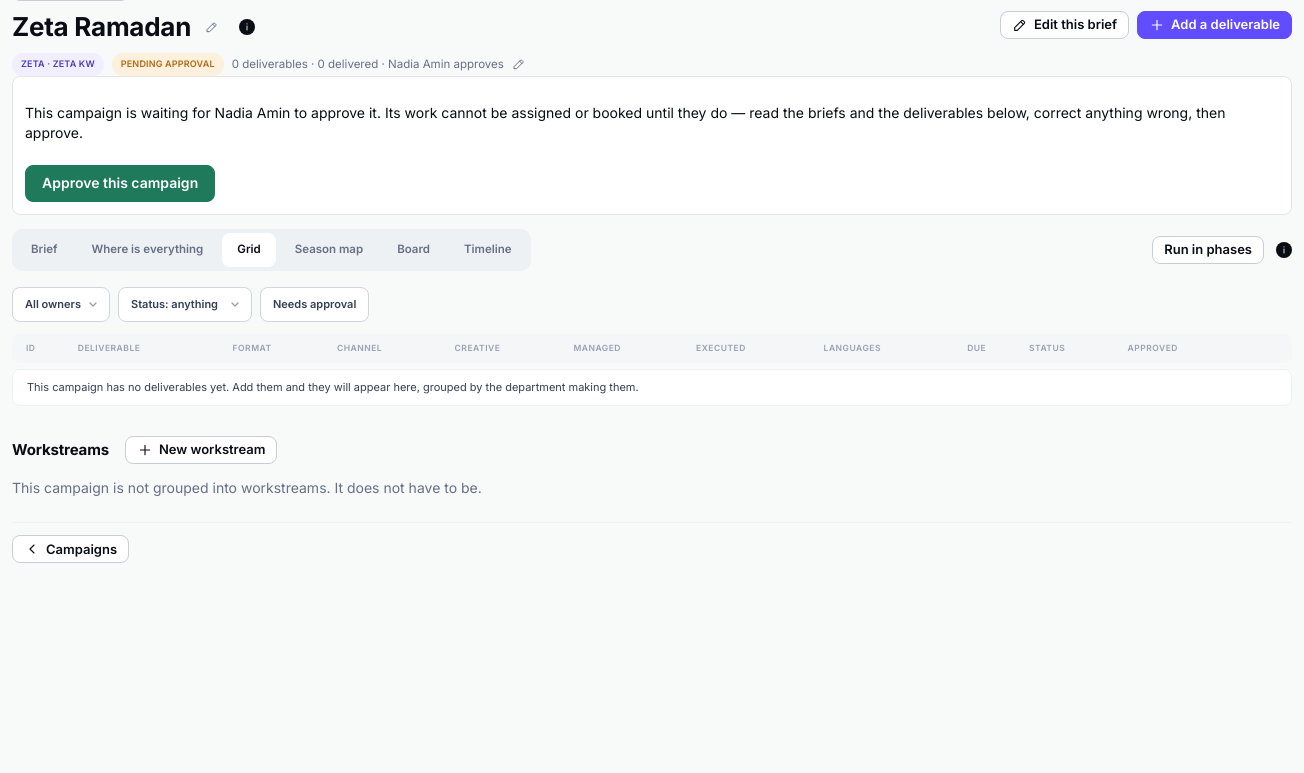
Test: CampaignPage (ADR-0048 d.9, I16.6) › keeps an N/A field on the page rather than dropping it
What coordinates should you click on to do the following:
click the tab with test id "campaign-tab-brief"
I would click on:
 (44, 250)
Its box is [16,233,72,267].
(page scrolled)
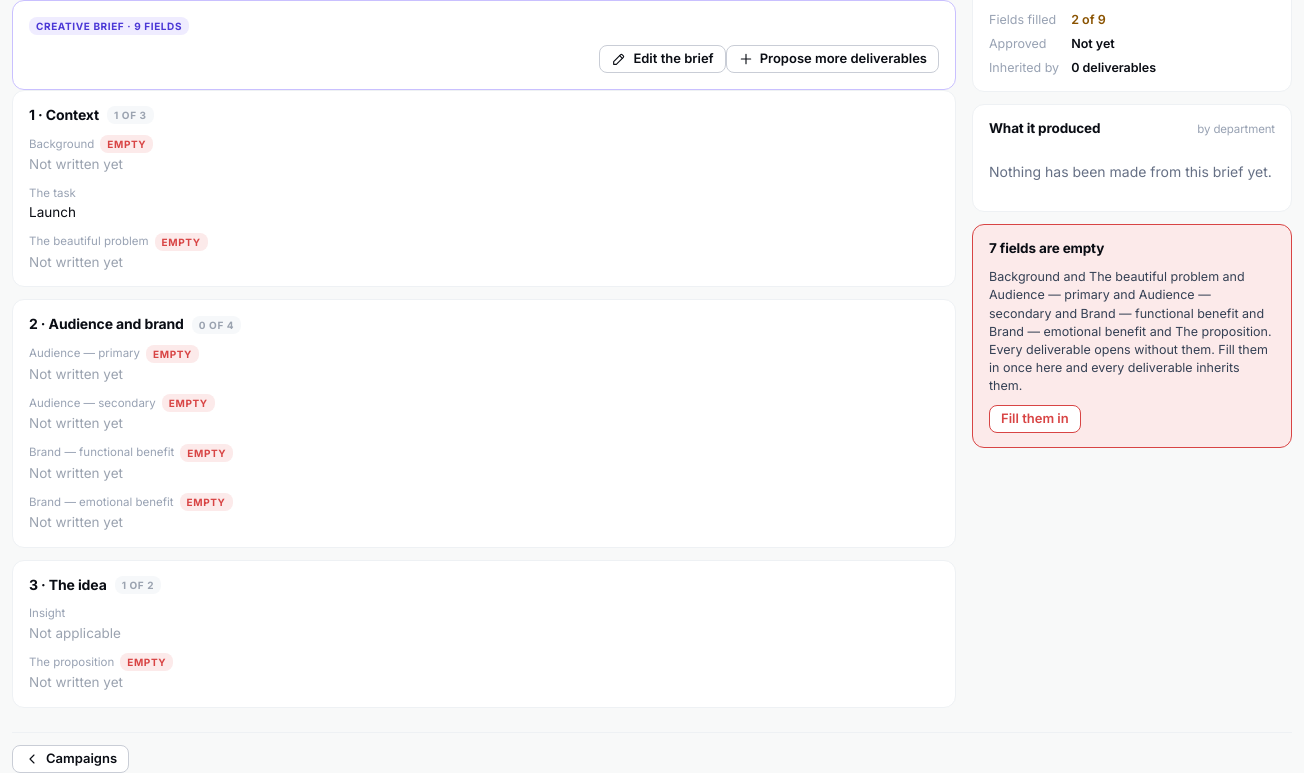
Now the text with test id "campaign-master-brief-insight" reads "Not applicable", box [29,625,121,641]
